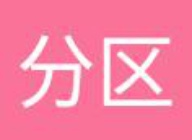TextView: (1, 1, 191, 139)
